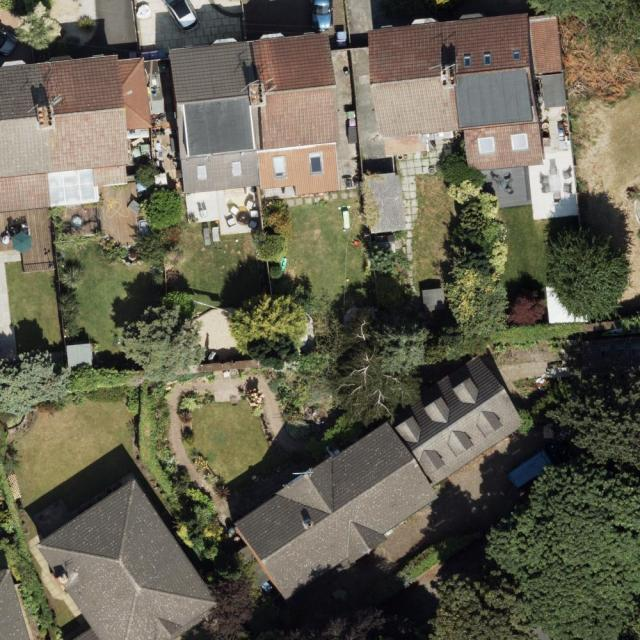roof: (232, 356, 526, 600), (36, 476, 224, 640), (368, 14, 564, 171), (169, 33, 342, 195), (0, 54, 152, 212)
skylight: (269, 152, 289, 182), (306, 149, 326, 175), (475, 135, 497, 155), (509, 133, 530, 152), (228, 160, 245, 178), (195, 163, 209, 183), (510, 47, 523, 61), (462, 53, 473, 67), (482, 51, 492, 65)
